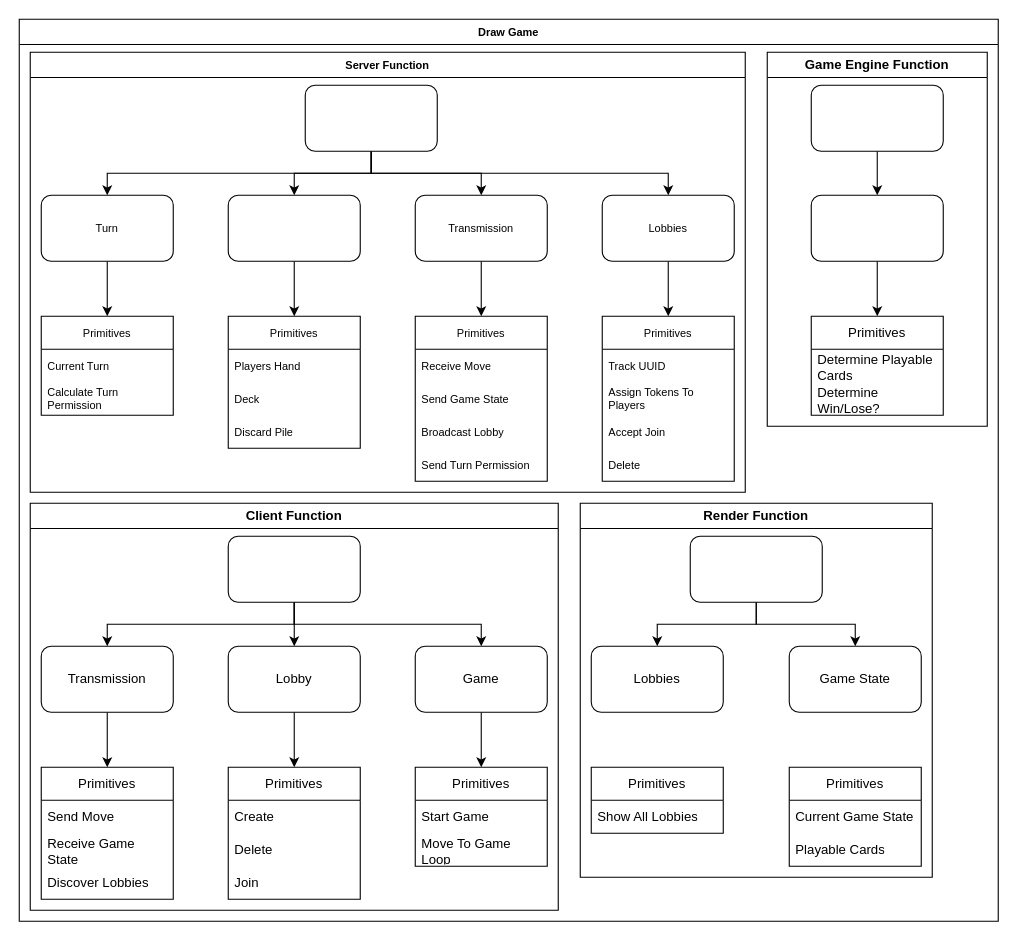
Image size: 1018x941. Some labels were removed from this diagram. The shapes that lost their labels are listed below. From the top down, each one's centre as x and y in pixels, then its label:
[370,117]: Server
[876,117]: Game Engine
[293,227]: Card State
[876,227]: Legal Moves
[293,568]: Client
[755,568]: Renderer
